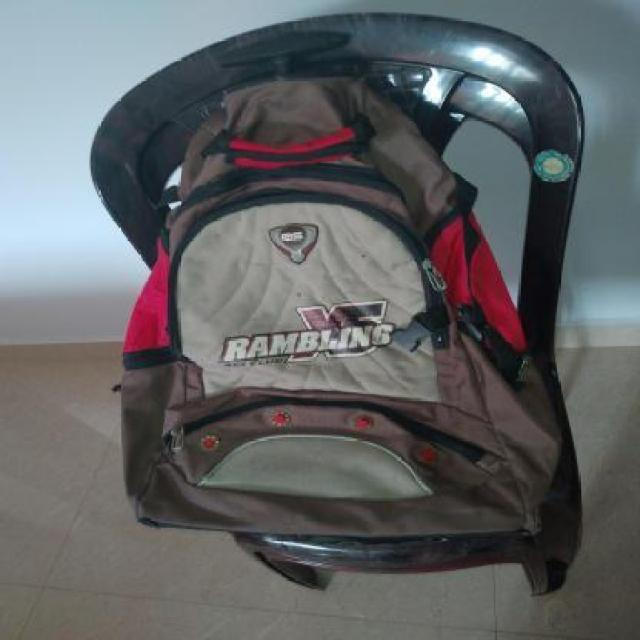backpack: (114, 66, 571, 546)
